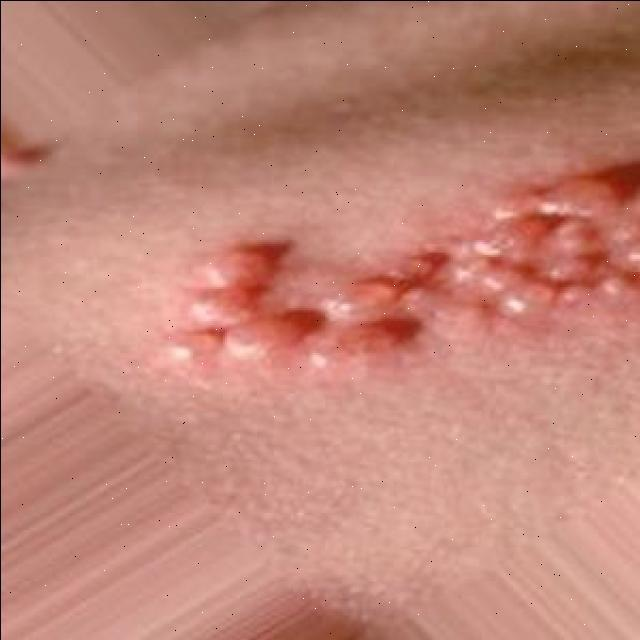Shingles: (166, 175, 637, 364)
